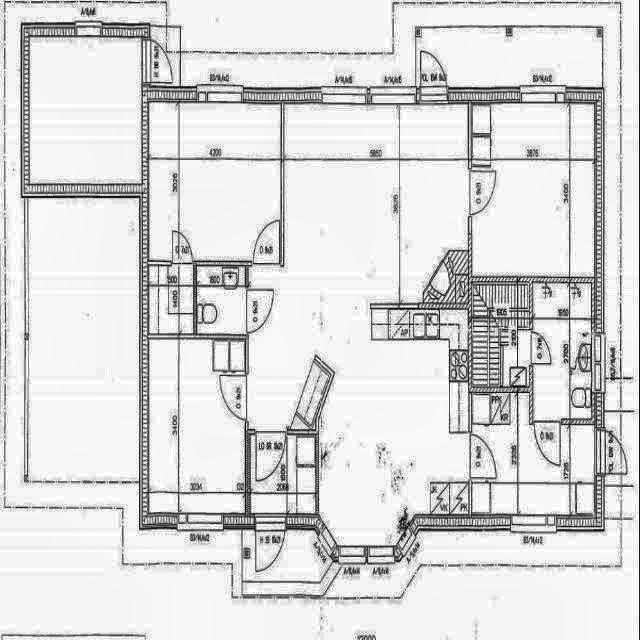room: (472, 103, 594, 277), (148, 102, 281, 261), (148, 339, 245, 513), (30, 36, 142, 184), (472, 393, 595, 515), (533, 283, 591, 419), (472, 282, 529, 387), (250, 434, 316, 513), (242, 529, 333, 581), (197, 266, 245, 334), (149, 266, 194, 334), (150, 27, 180, 86)
